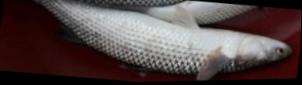fish: (33, 0, 293, 82)
